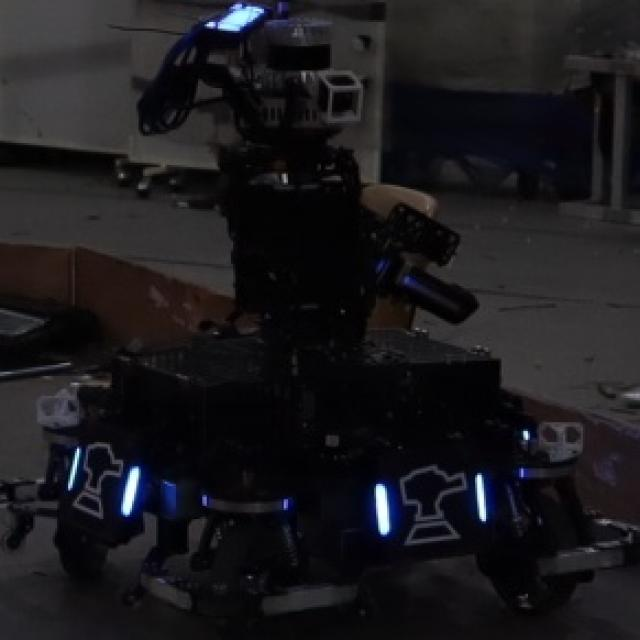Bs: (372, 464, 491, 545), (64, 438, 145, 524)
